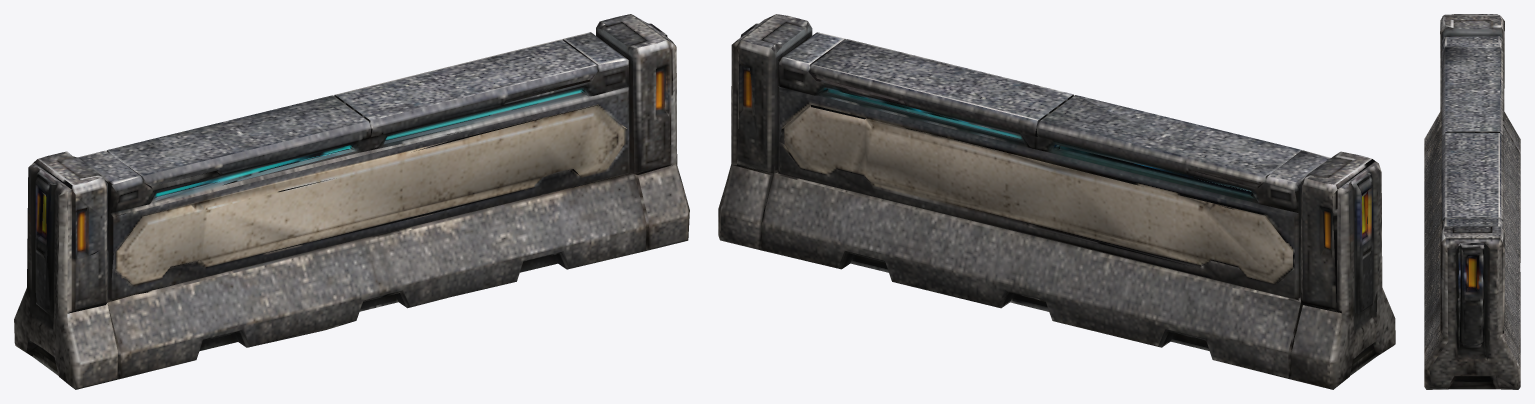
Rendered from kairox-barrier-straight.glb.
3 views of the same model, side by side, from view 1: azimuth 30°, elevation 25°; view 2: azimuth 150°, elevation 25°; view 3: azimuth 270°, elevation 25° (orthographic). The views are drawn at different scales.
Visible parts, largest first — view 1: kairox-barrier-straight; view 2: kairox-barrier-straight; view 3: kairox-barrier-straight.
Part boxes in pixels (left/top/right/bottom): kairox-barrier-straight: left=14, top=14, right=689, bottom=389; kairox-barrier-straight: left=718, top=14, right=1395, bottom=389; kairox-barrier-straight: left=1424, top=14, right=1520, bottom=389.
Bounding box in the file's own units: 4 × 1.2 × 0.7.
1 material, 1 textured.
